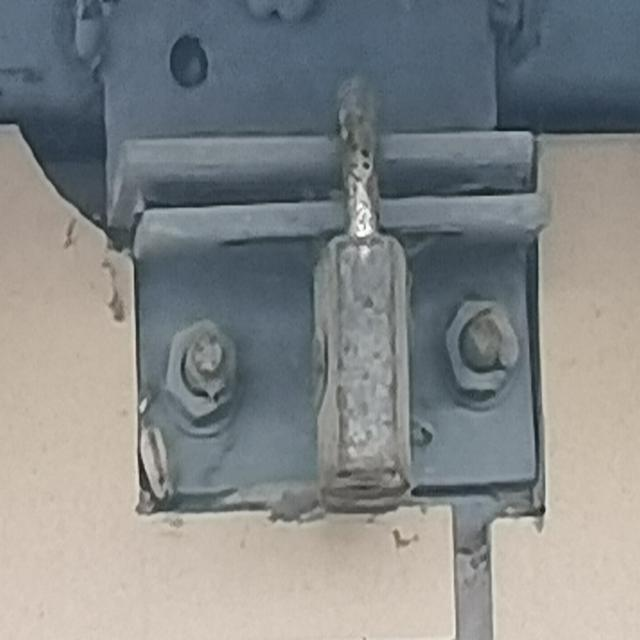bolt nut: (437, 293, 525, 410), (156, 315, 242, 432)
